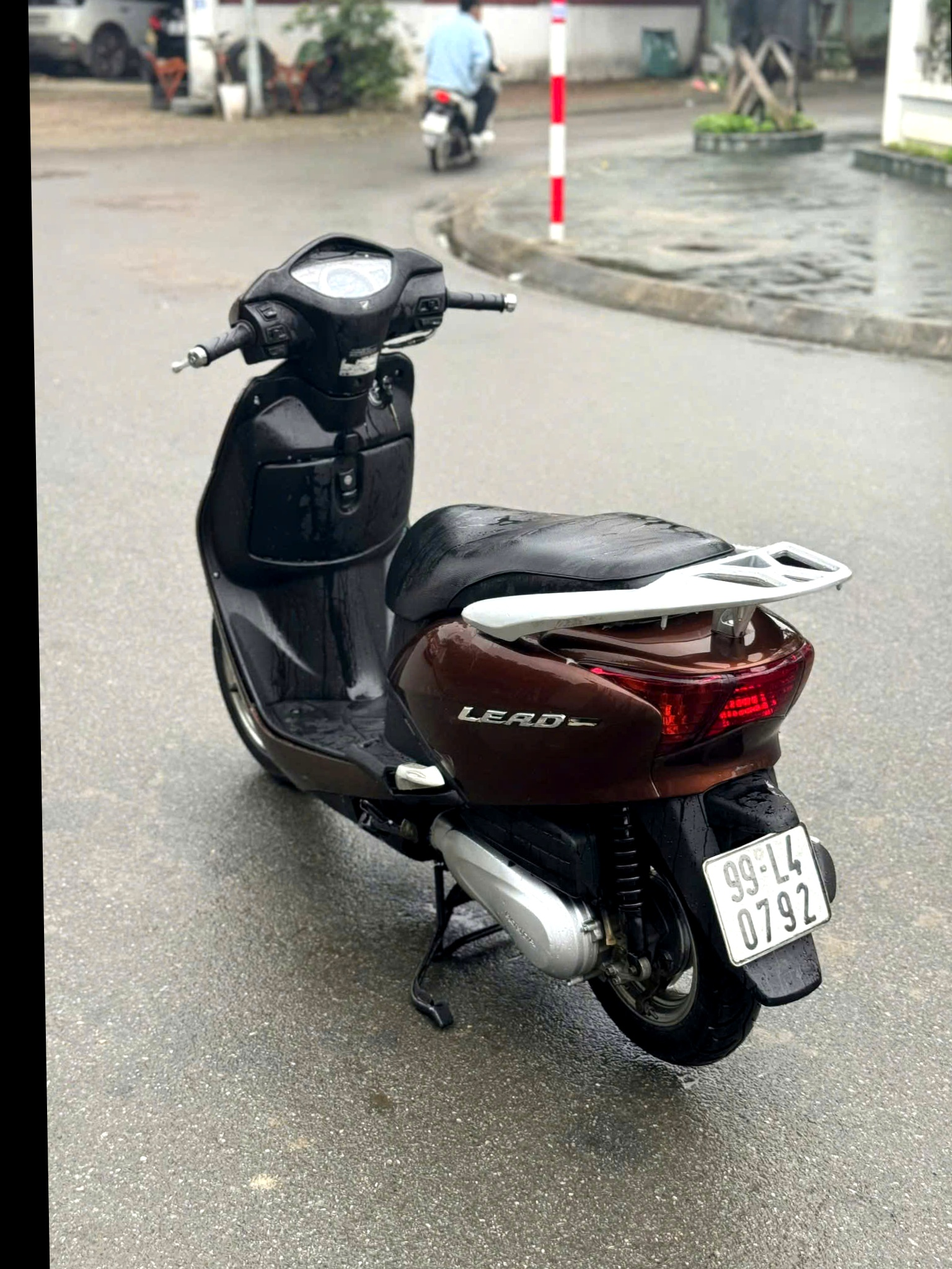Bien-so: (687, 830, 834, 977)
